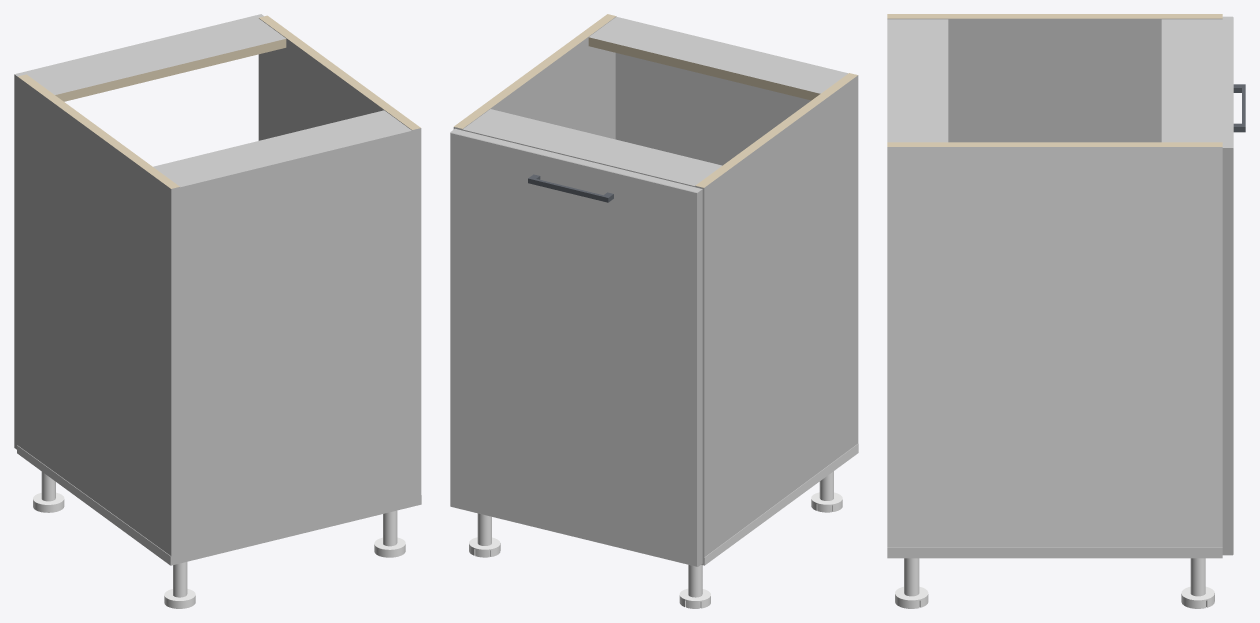
3 views of the same model, side by side, from view 1: azimuth 30°, elevation 25°; view 2: azimuth 150°, elevation 25°; view 3: azimuth 270°, elevation 25° (orthographic). The views are drawn at different scales.
Parts seen in each view (by area): view 1: Model; view 2: Model; view 3: Model.
Part boxes in pixels (x1,y1,x2,y2): Model: (14, 14, 421, 608); Model: (450, 14, 858, 608); Model: (887, 14, 1245, 608).
Size of the model in its own units: 502 by 815 by 569.
